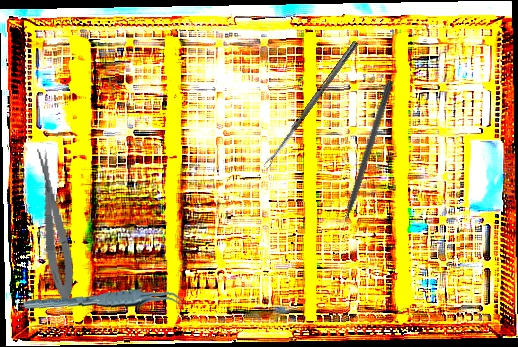Micro Scissor: (32, 146, 79, 307)
Pusher: (333, 79, 395, 242)
Surgical Spoon: (262, 39, 359, 170)
Tissue Forceps: (22, 281, 186, 321)
